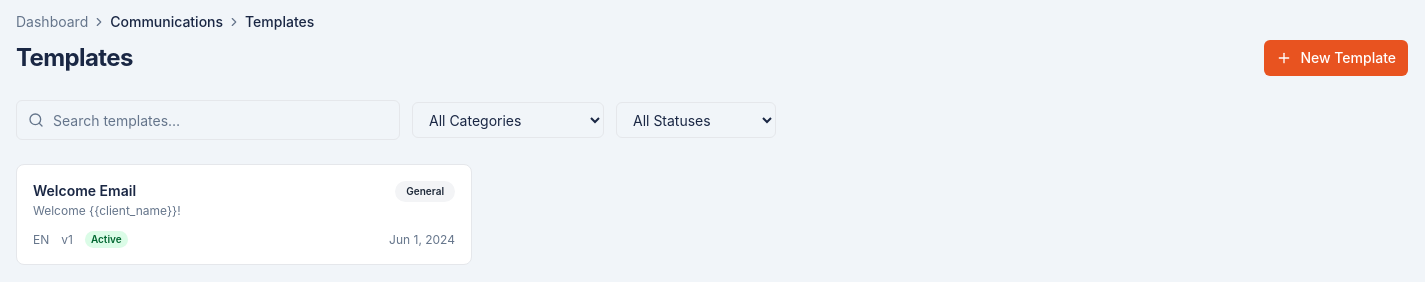
Test: TemplatesView › shows no results message when filters match nothing
The image size is (1425, 282).
Select "Onboarding" in the dropdown named "Filter by category" at (508, 120), box [412,102,604,138]
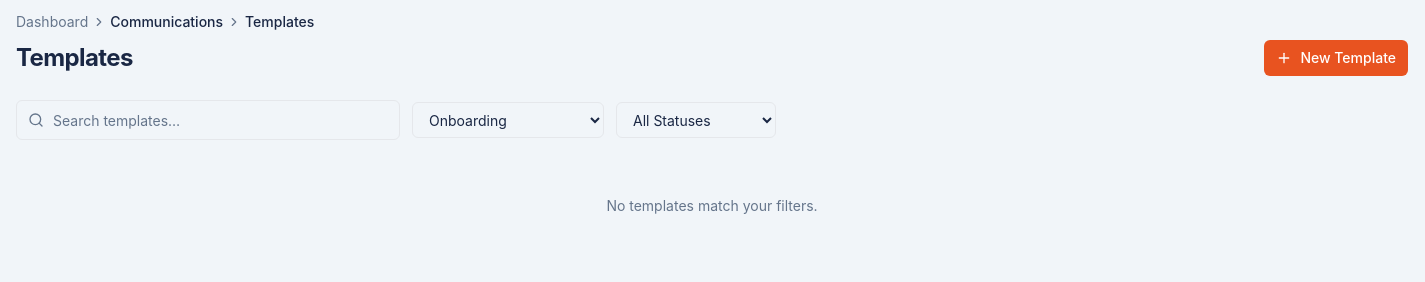
expect the text "No templates match your filters." is shown: met, box [606,197,818,214]
